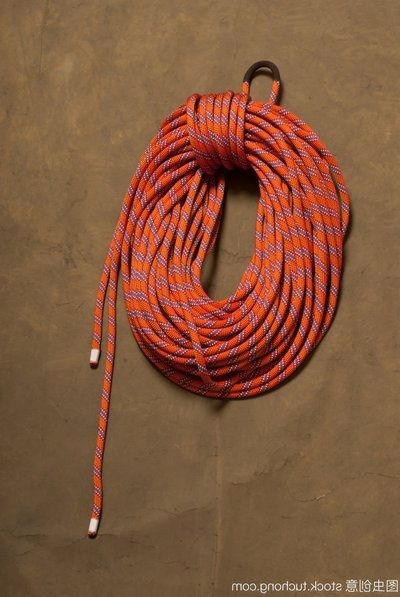9/可回收垃圾/绳子: (86, 59, 351, 538)
